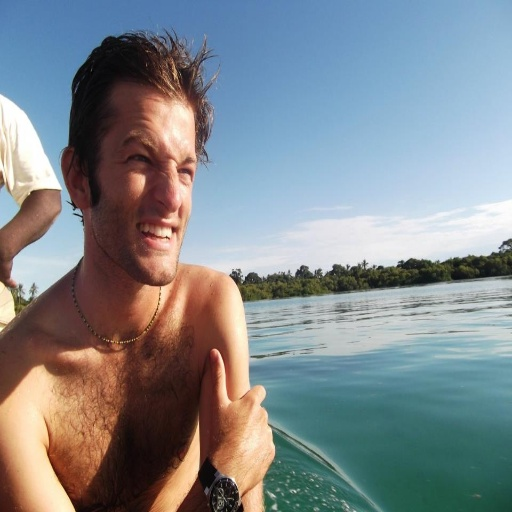hand: (195, 342, 272, 509), (0, 230, 19, 289)
